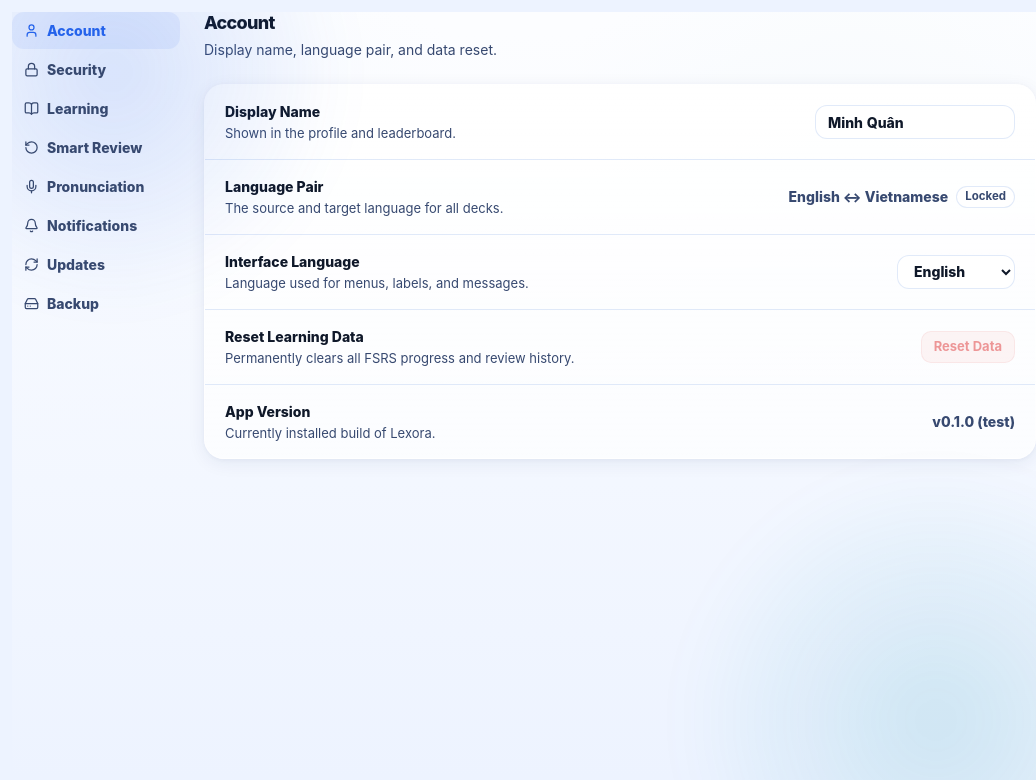
Test: SettingsPage › switches to Learning section on click
The image size is (1036, 780).
Click the button "Learning" at [96, 108], box [12,90,180,127]
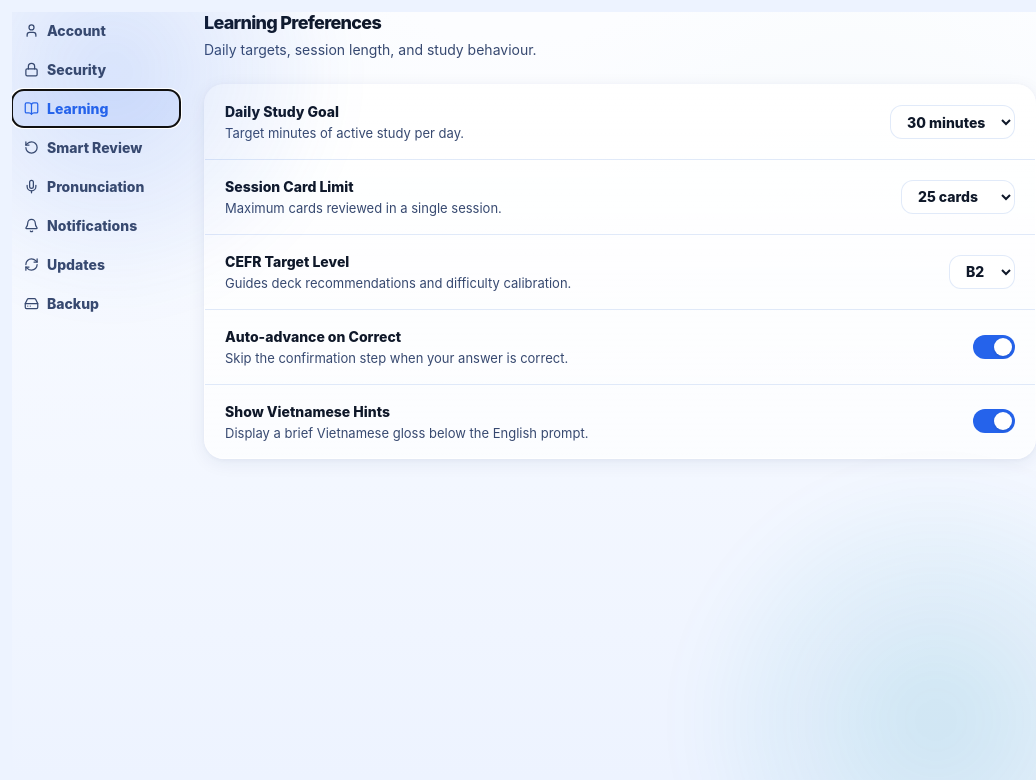
Expected: the heading "Learning Preferences" is shown, [204,12,381,33]
Expected: the dropdown named "Daily study goal" is shown, [890,105,1015,139]
Expected: the checkbox named "Toggle auto-advance on correct answer" is shown, [973,335,1015,359]
